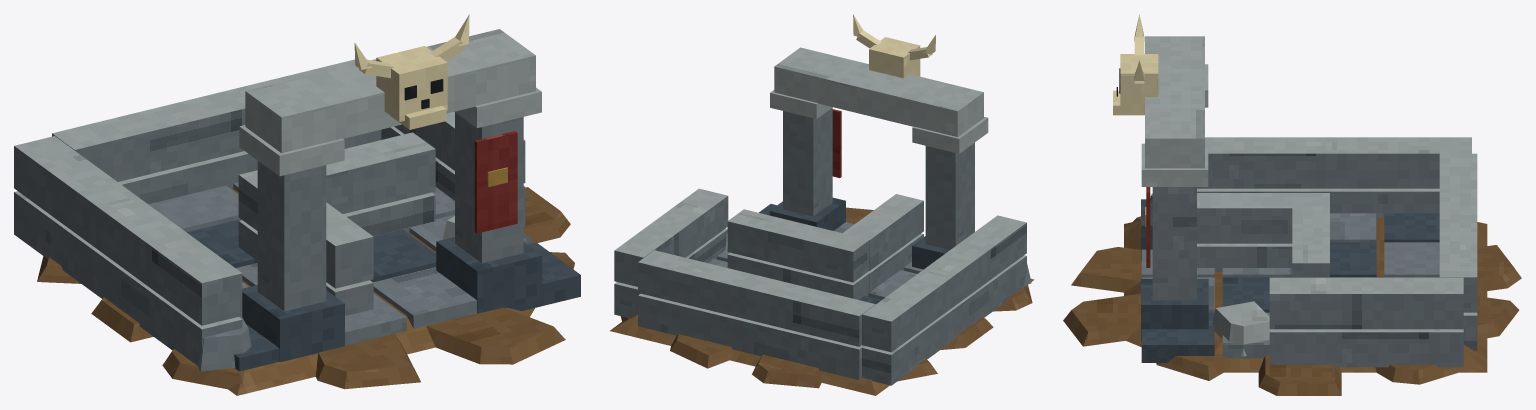
File: minotaur_lair_v1.glb
3 renders of one model, left to right at view 1: azimuth 30°, elevation 25°; view 2: azimuth 150°, elevation 25°; view 3: azimuth 270°, elevation 25°, orthographic. The views are drawn at different scales.
Parts seen in each view (by area): view 1: Model; view 2: Model; view 3: Model.
Boxes of the visible parts, left/top/right/bottom form: Model: left=14, top=14, right=580, bottom=395; Model: left=610, top=14, right=1034, bottom=395; Model: left=1063, top=14, right=1521, bottom=395.
Bounding box in the file's own units: 1.33 × 0.8747 × 1.39.
1 material, 1 textured.
